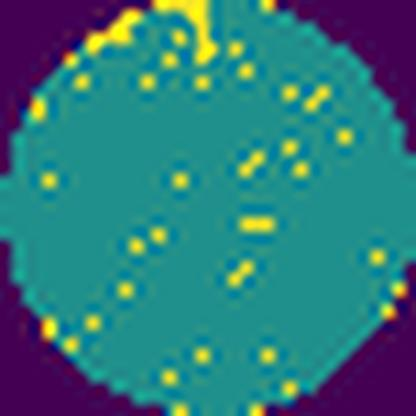Edge-Loc: (153, 0, 224, 65), (82, 8, 143, 59)
